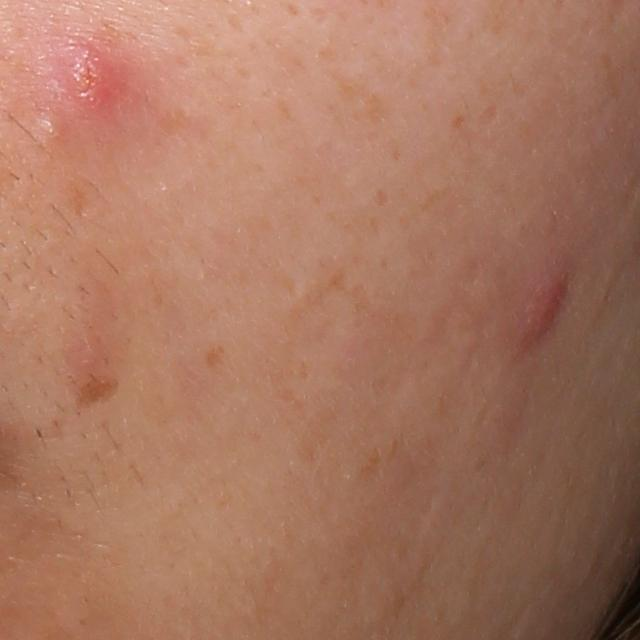comedo: (40, 115, 65, 138)
papule: (76, 46, 128, 119), (519, 277, 565, 355)
